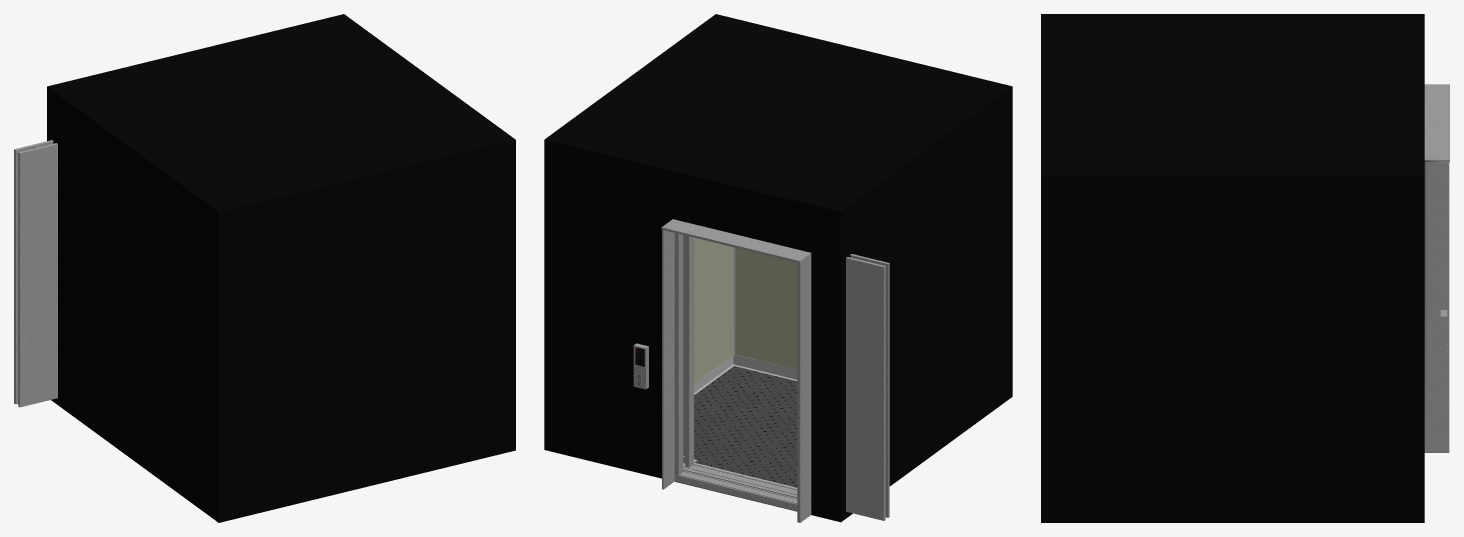
Rendered from ELEAVTOR.glb.
The picture shows the model from 3 angles, left to right: view 1: azimuth 30°, elevation 25°; view 2: azimuth 150°, elevation 25°; view 3: azimuth 270°, elevation 25°; orthographic projection. The views are drawn at different scales.
Visible parts, largest first — view 1: elevator_Shaft, elevator_door_part_2; view 2: elevator_Shaft, elevator_door_part_2, elevator_car_part_7, floor_door_frame_part_1, elevator_car_wall_par_2, elevator_car_wall_par_3, floor_door_part_2, floor_door_track_platform, elevator_door_track_platform, elevator_car_part_4, floor_control_panel_part_1; view 3: elevator_Shaft, floor_door_frame_part_1.
Part boxes in pixels (box(x1,y1,x2,y2)): elevator_Shaft: box(47, 14, 515, 522); elevator_door_part_2: box(14, 140, 57, 407); elevator_Shaft: box(544, 14, 1012, 522); elevator_door_part_2: box(846, 254, 889, 520); elevator_car_part_7: box(694, 366, 797, 487); floor_door_frame_part_1: box(661, 219, 811, 522); elevator_car_wall_par_2: box(735, 248, 797, 369); elevator_car_wall_par_3: box(694, 237, 733, 383); floor_door_part_2: box(674, 233, 693, 475); floor_door_track_platform: box(674, 470, 797, 511); elevator_door_track_platform: box(683, 463, 797, 497); elevator_car_part_4: box(733, 247, 797, 379); floor_control_panel_part_1: box(633, 343, 648, 389); elevator_Shaft: box(1041, 14, 1424, 522); floor_door_frame_part_1: box(1424, 84, 1449, 452).
Bounding box in the file's own units: 2.56 × 2.27 × 2.42.
Materials: 48 (14 with a texture image).
